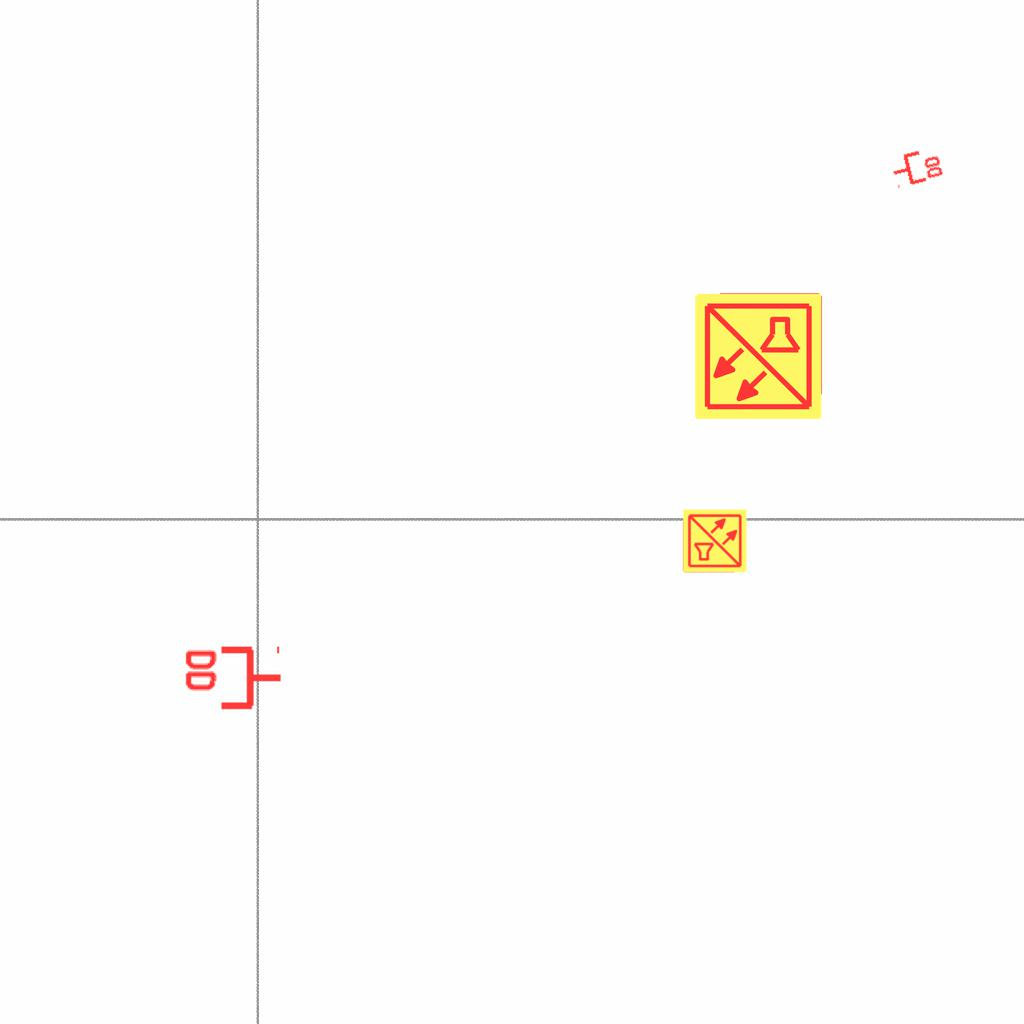Datenanschluss_zweifach: (181, 645, 284, 714), (888, 143, 946, 190)
OKW_Multisensormelder_(Kombination_optischer_Rauch-Kahlenmonoxid_Waerme-Melder): (692, 290, 824, 422), (682, 508, 748, 574)
